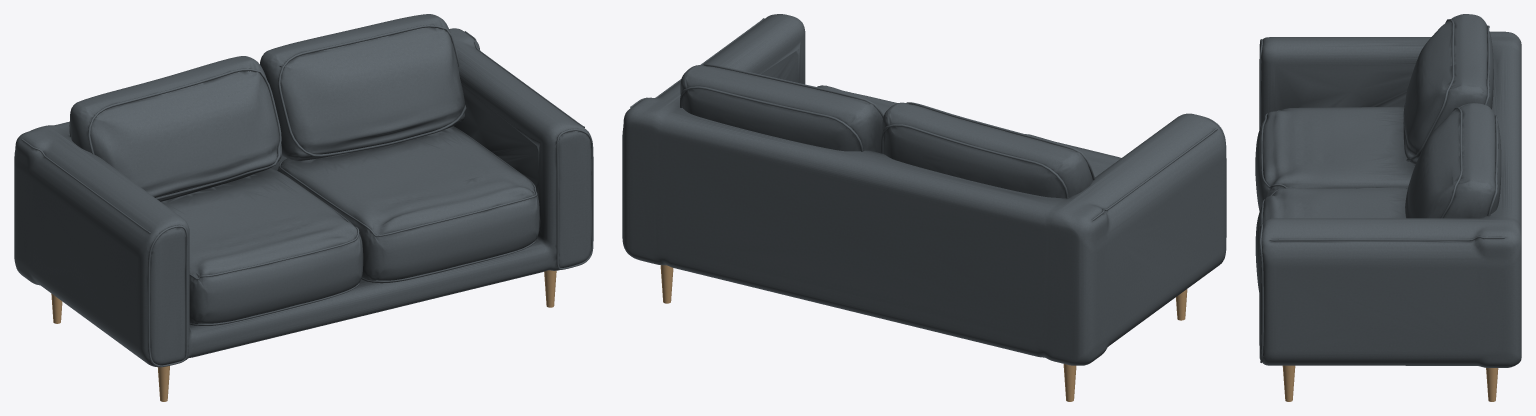
The model's file is pana-pizarra.gltf.
3 renders of one model, left to right at view 1: azimuth 30°, elevation 25°; view 2: azimuth 150°, elevation 25°; view 3: azimuth 270°, elevation 25°, orthographic. The views are drawn at different scales.
Parts seen in each view (by area): view 1: tela_ar, madera_ar; view 2: tela_ar, madera_ar; view 3: tela_ar, madera_ar.
Part boxes in pixels (box(x1,y1,x2,y2)): tela_ar: box(14, 14, 593, 367); madera_ar: box(51, 270, 556, 401); tela_ar: box(622, 14, 1226, 365); madera_ar: box(660, 265, 1187, 401); tela_ar: box(1255, 14, 1521, 367); madera_ar: box(1282, 365, 1498, 401).
Size of the model in its own units: 1.7 by 0.8275 by 0.9121.
Materials: 2 (2 with a texture image).
